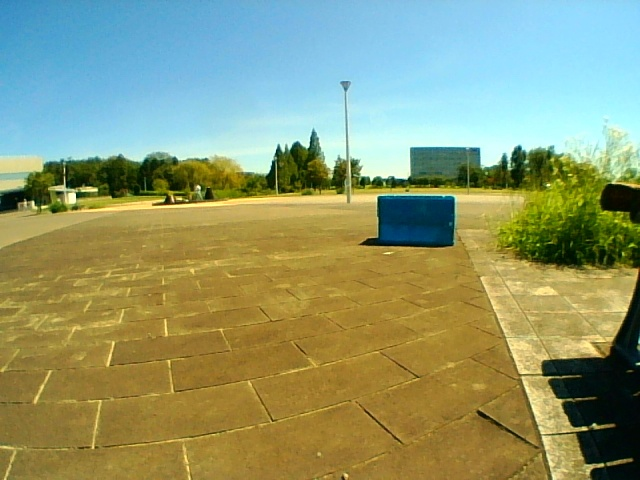blue_box: (378, 196, 454, 244)
